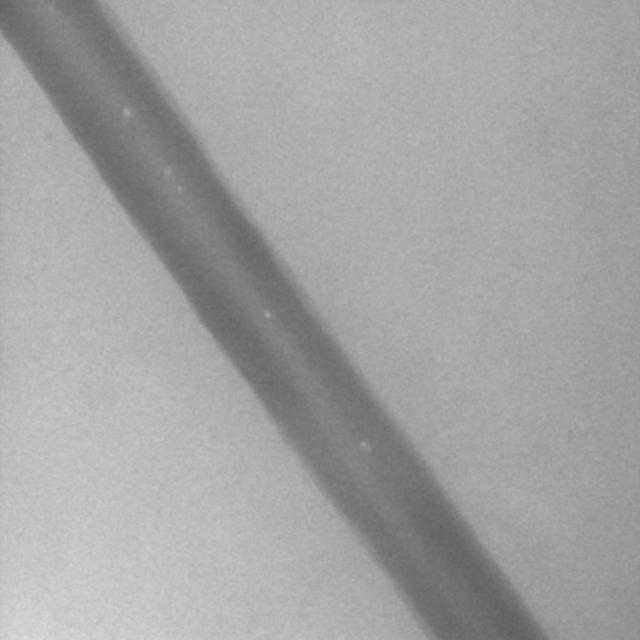air hole: (120, 104, 132, 118), (358, 437, 369, 451), (263, 308, 273, 320)
